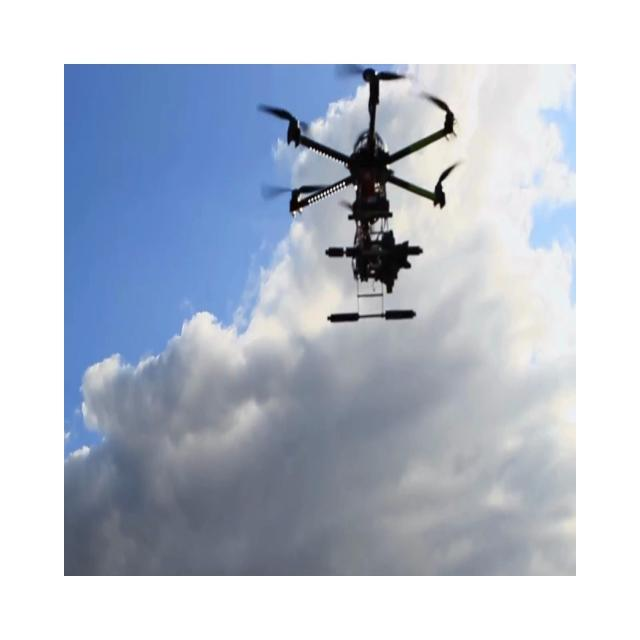drone: (256, 64, 461, 323)
